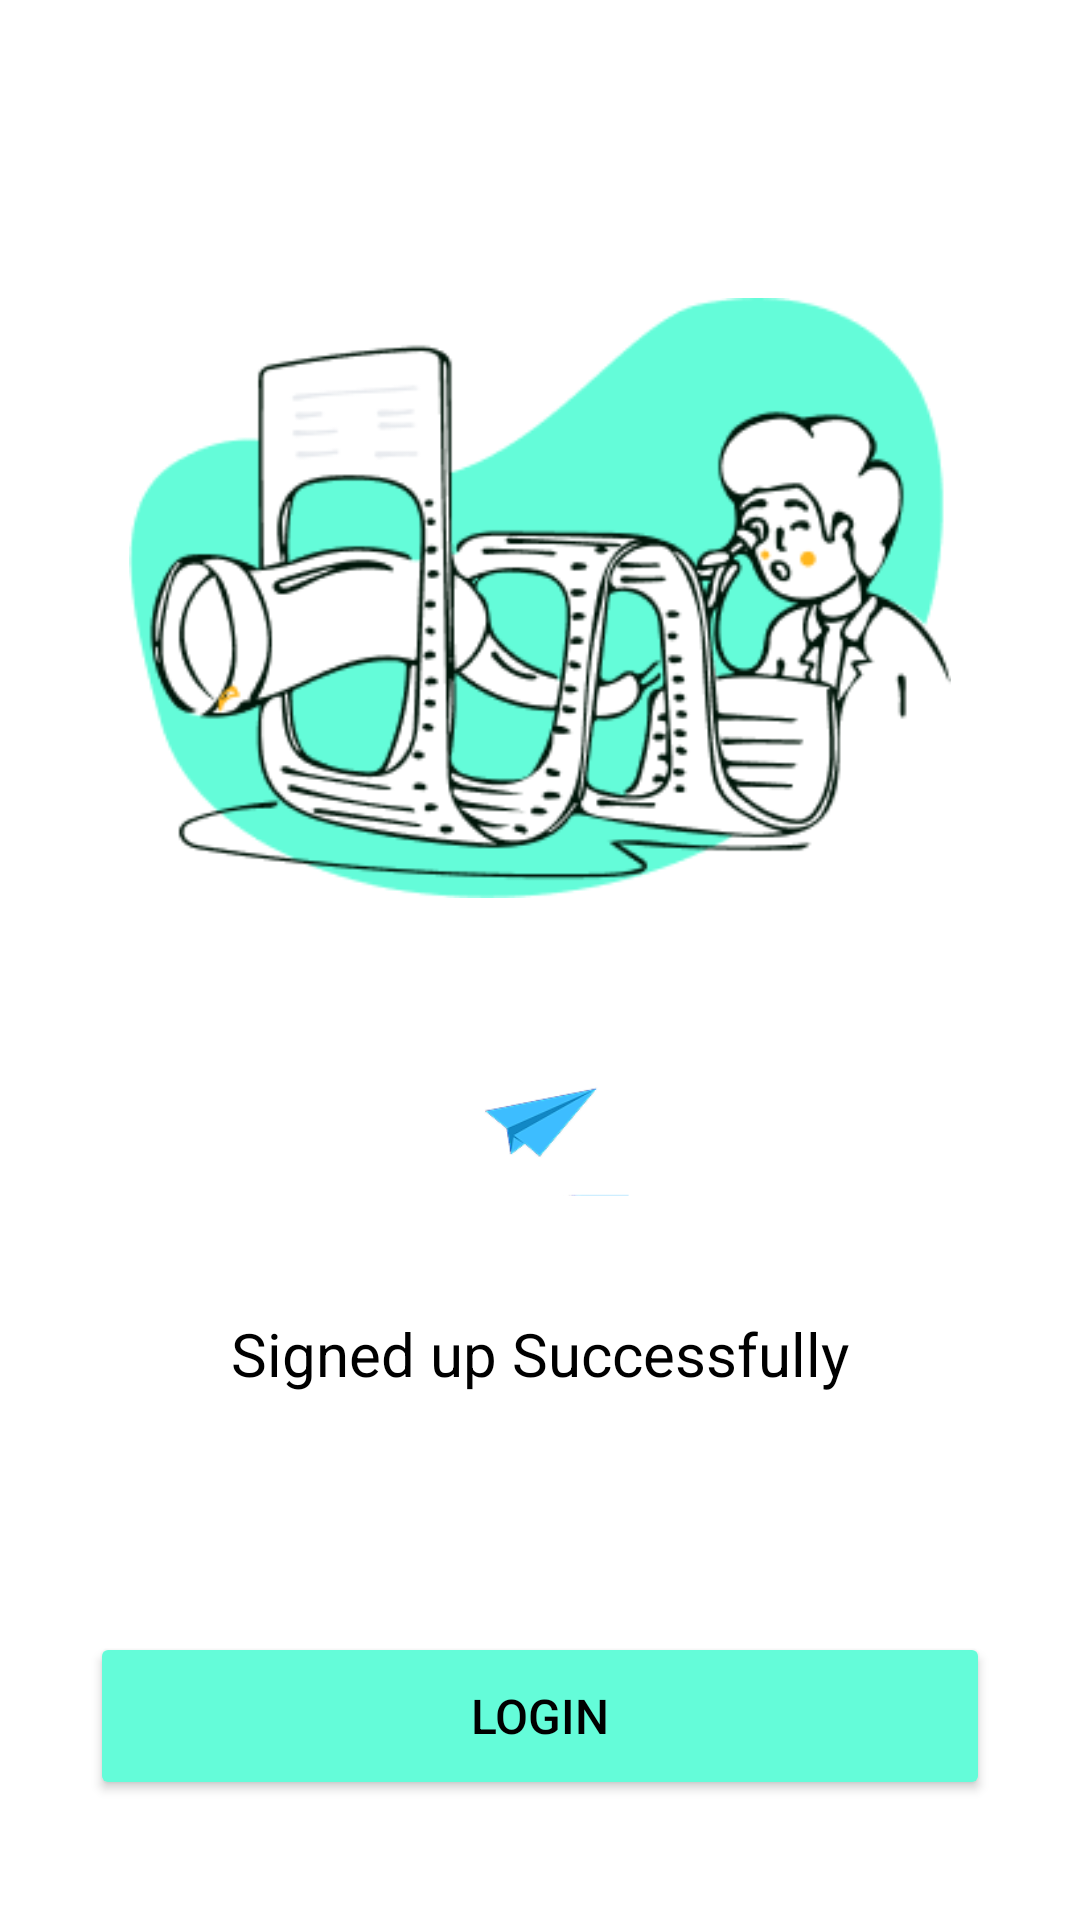

Where to tap for icons on this 1080×1920 app screen, as (x,y):
airplane: (557,1142)
